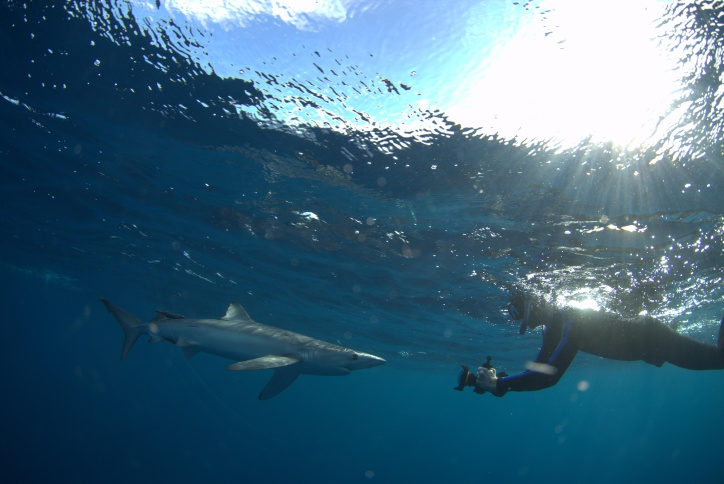Azul: (83, 272, 407, 424)
